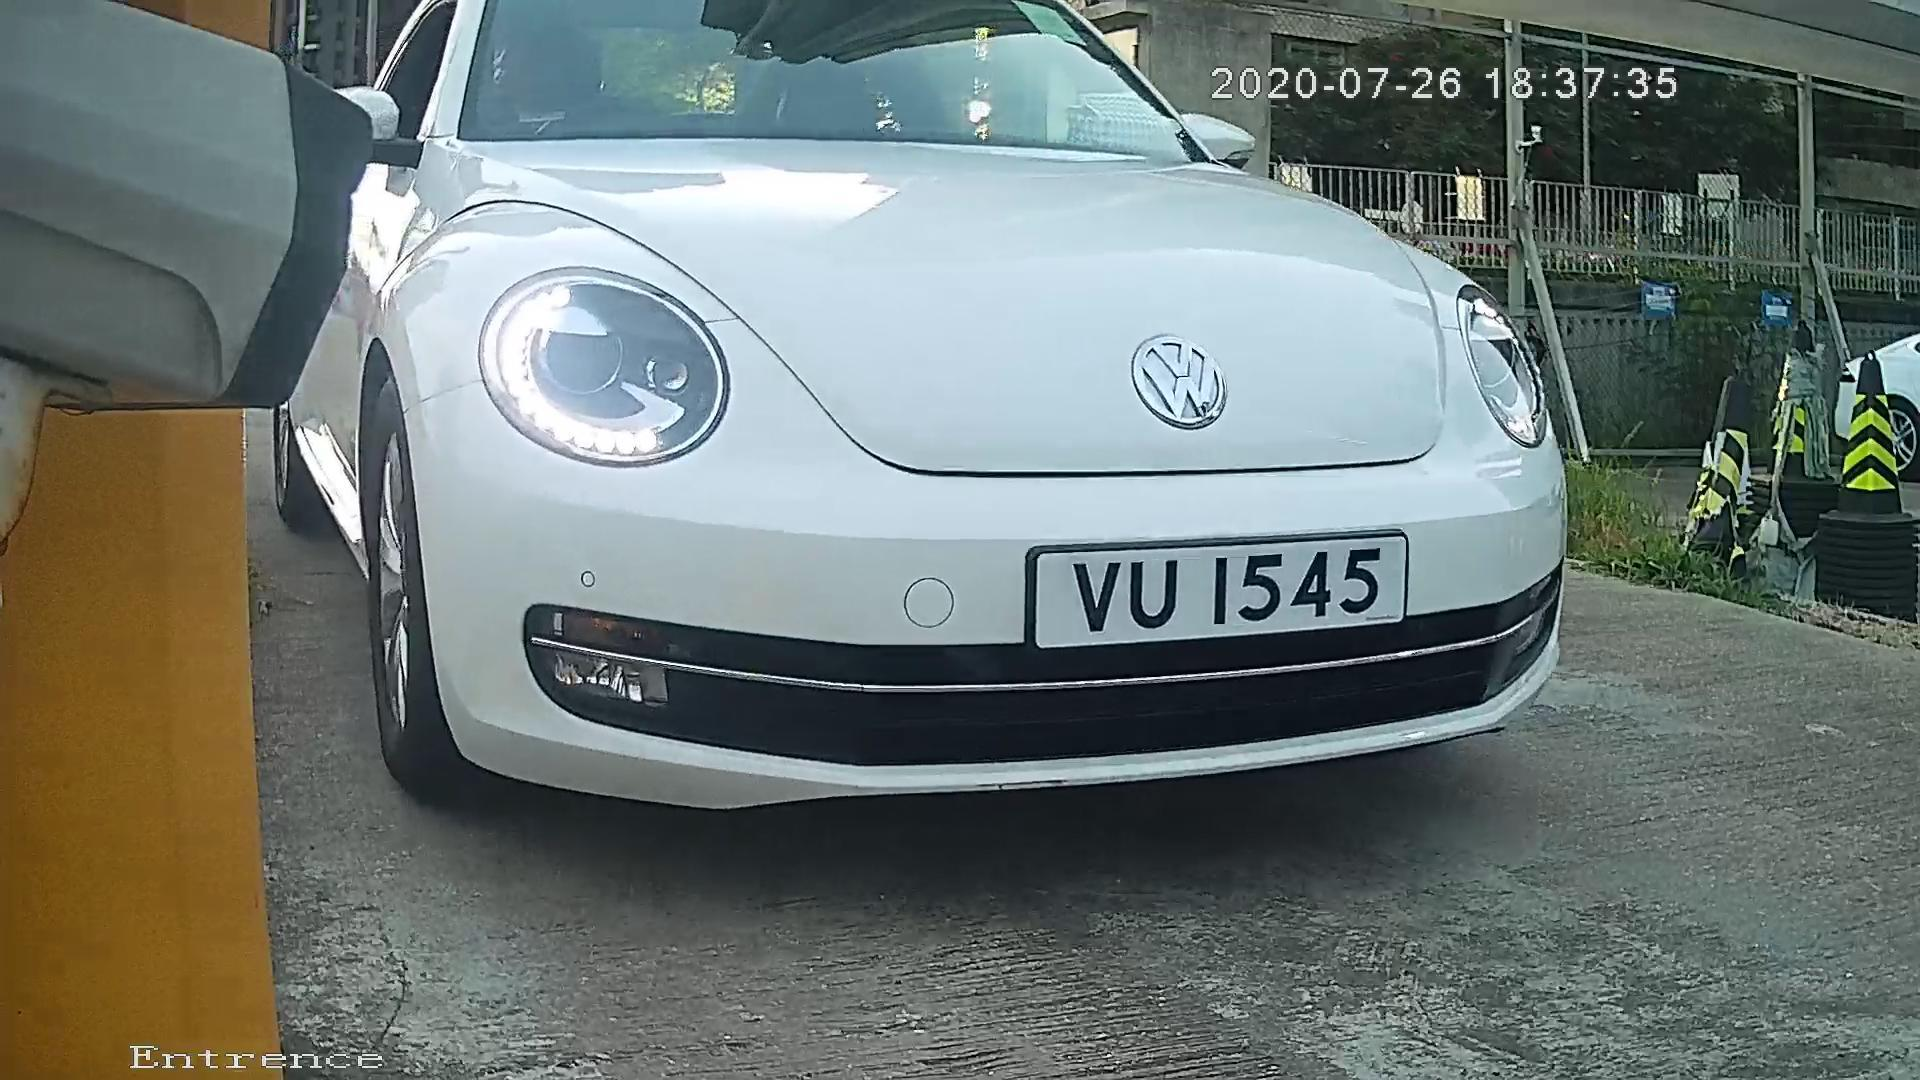License Plate: (982, 516, 1441, 674)
